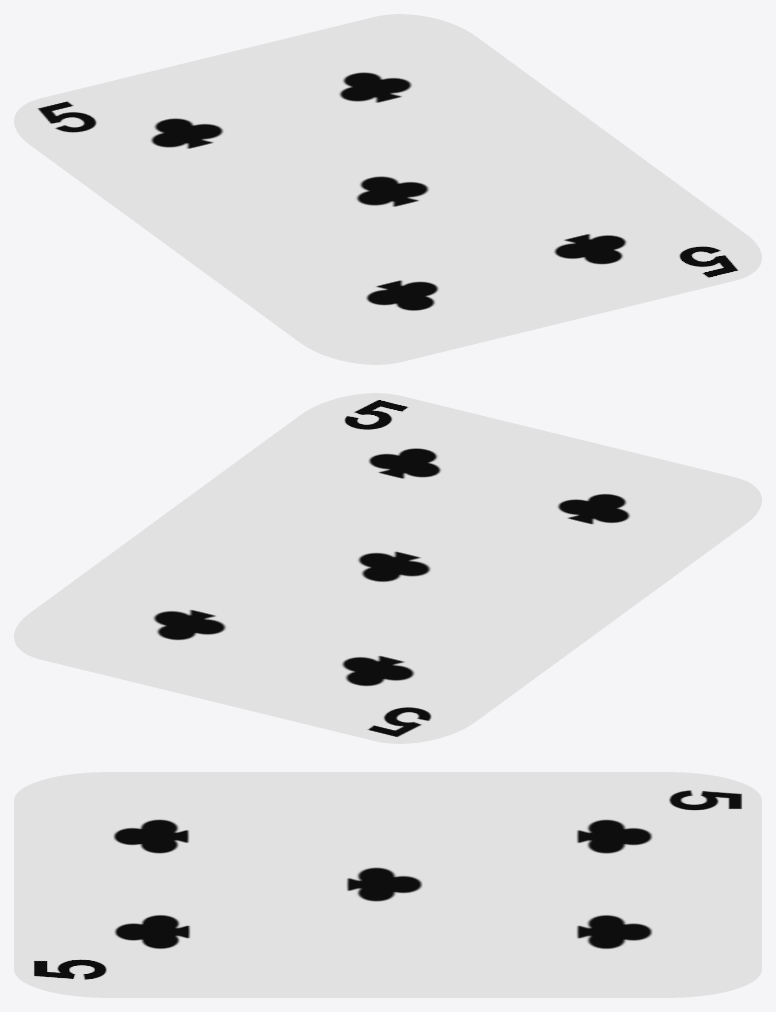
File: Clubs5.fbx
3 renders of one model, top to bottom at view 1: azimuth 30°, elevation 25°; view 2: azimuth 150°, elevation 25°; view 3: azimuth 270°, elevation 25°, orthographic. The views are drawn at different scales.
Visible parts, largest first — view 1: Plane.005; view 2: Plane.005; view 3: Plane.005.
Part boxes in pixels (x1,y1,x2,y2): Plane.005: (14,14,761,364); Plane.005: (14,393,761,743); Plane.005: (14,772,761,997).
Size of the model in its own units: 500 by 0 by 700.
1 material, 1 textured.
